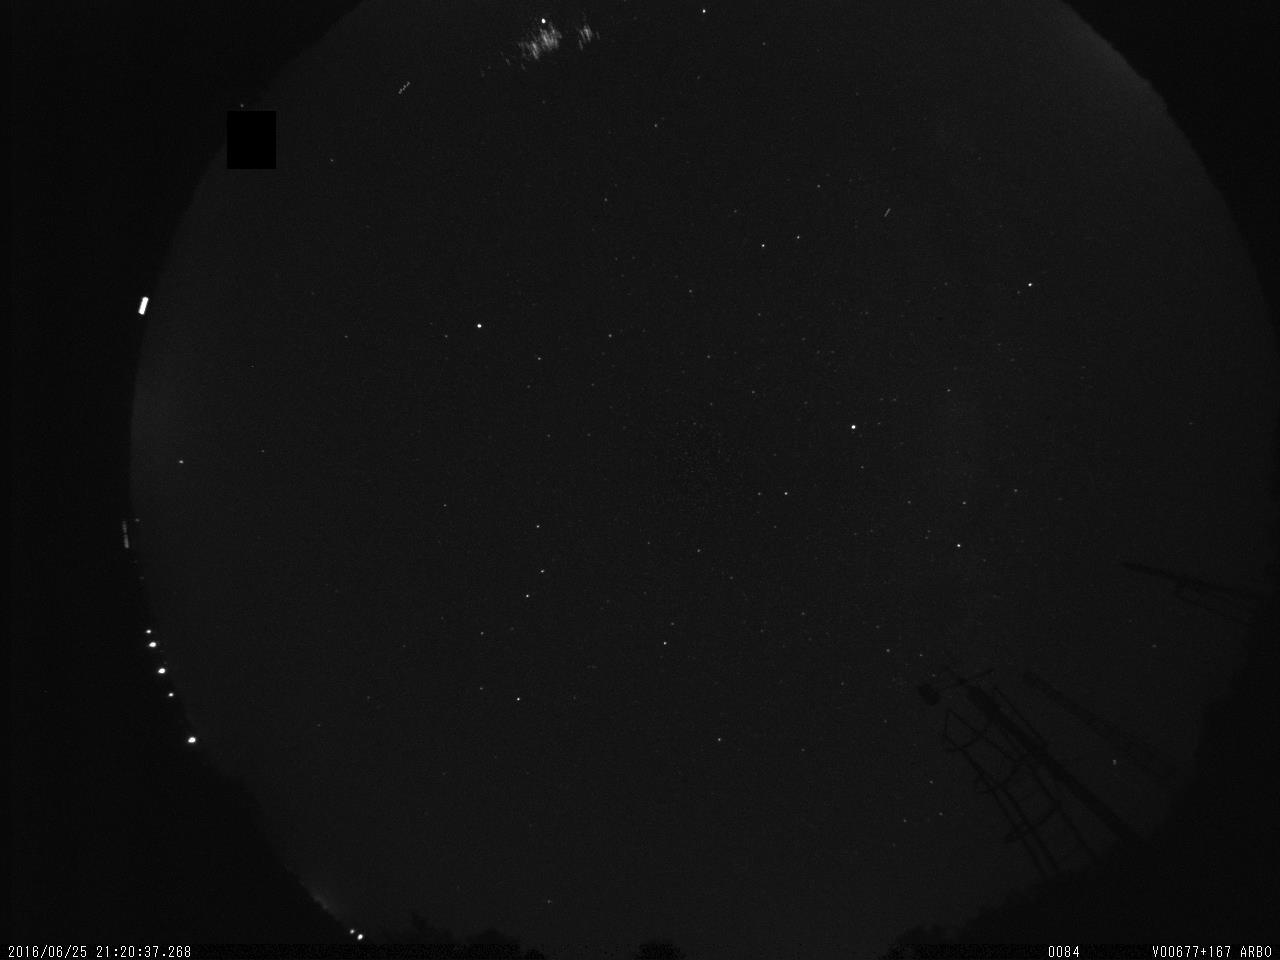TLE: (480, 1, 610, 82)
